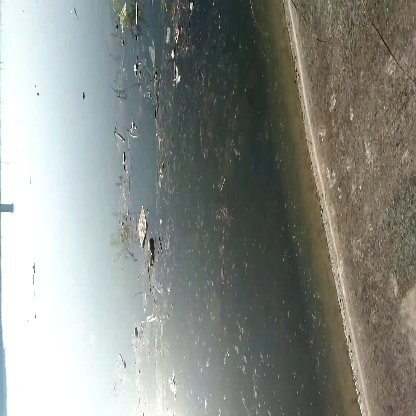plastic-bag: (131, 202, 151, 248)
